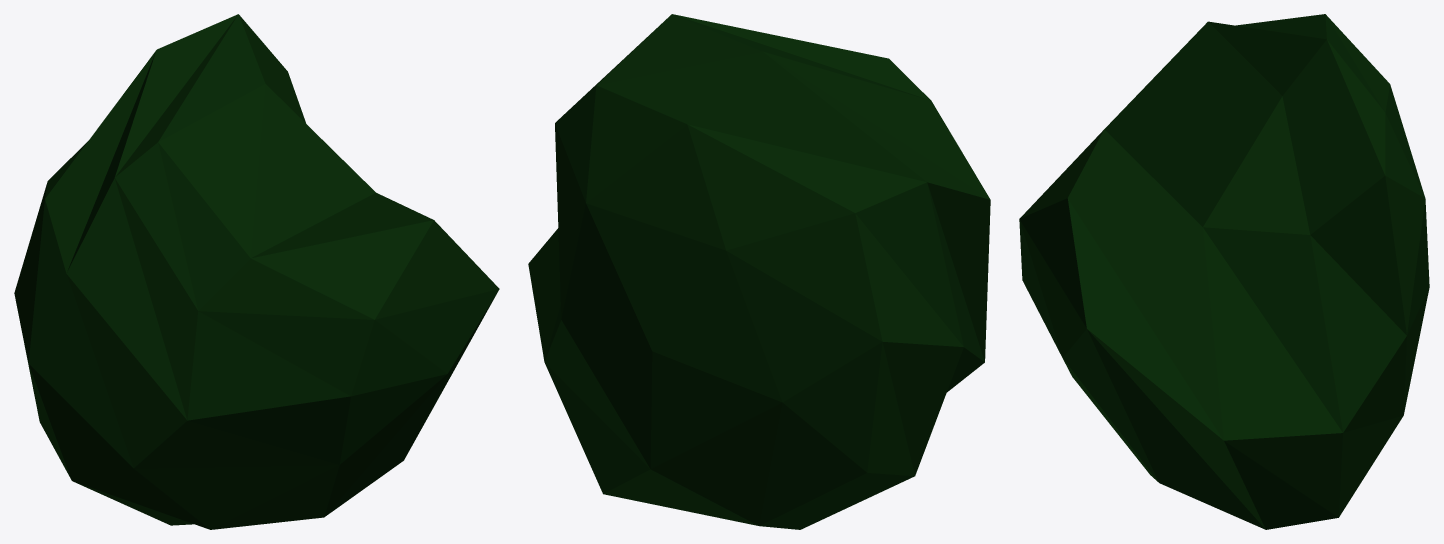
3 views of the same model, side by side, from view 1: azimuth 30°, elevation 25°; view 2: azimuth 150°, elevation 25°; view 3: azimuth 270°, elevation 25° (orthographic). The views are drawn at different scales.
Visible parts, largest first — view 1: forest14_1; view 2: forest14_1; view 3: forest14_1.
Boxes of the visible parts, x1,y1,x2,y2 form: forest14_1: (14, 14, 499, 529); forest14_1: (528, 14, 990, 529); forest14_1: (1019, 14, 1429, 529).
Bounding box in the file's own units: 122 × 103 × 130.
